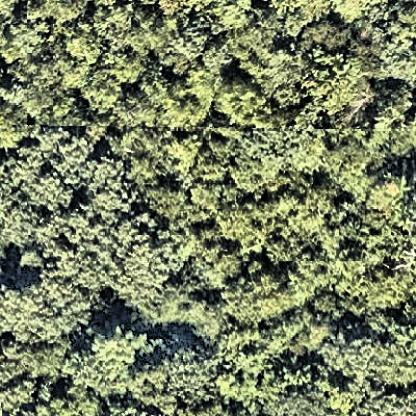tree-top: (8, 1, 163, 120), (196, 209, 337, 334), (4, 224, 109, 350), (116, 132, 234, 219), (151, 334, 245, 416), (12, 124, 98, 213), (107, 216, 190, 305), (218, 130, 326, 196), (336, 222, 416, 311), (1, 336, 82, 411), (319, 327, 416, 386), (207, 71, 296, 129), (302, 41, 370, 115), (157, 69, 218, 133), (87, 320, 154, 374), (257, 371, 325, 416), (366, 164, 410, 224)
